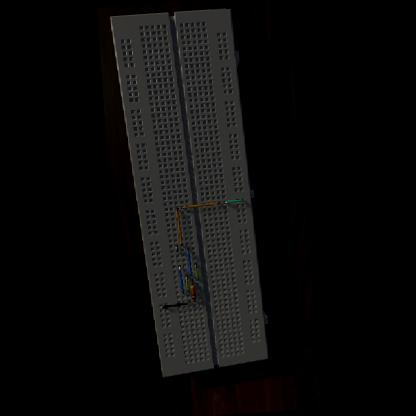breadboard: (109, 6, 271, 380)
resistor: (190, 285, 196, 300)
wire: (175, 208, 182, 246), (158, 300, 188, 308), (181, 203, 219, 209), (186, 249, 192, 276), (178, 266, 182, 294), (223, 200, 242, 204), (184, 275, 188, 292), (194, 264, 197, 280), (174, 245, 176, 252), (190, 280, 192, 286), (193, 300, 194, 302)
